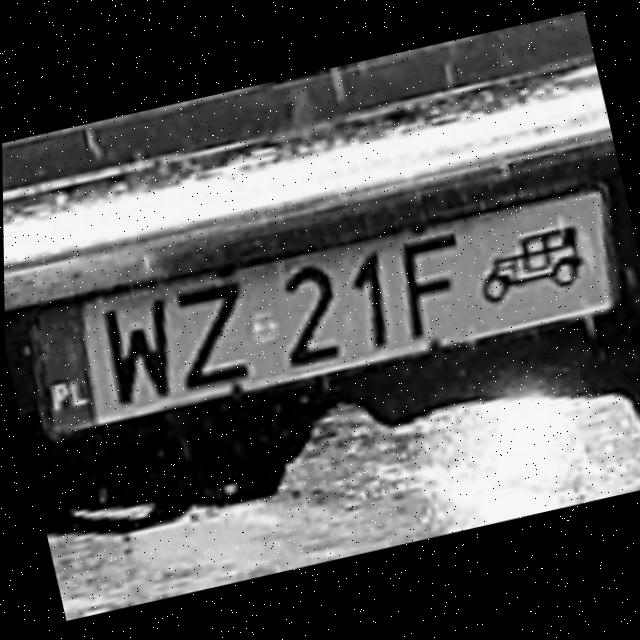license-plates: (36, 188, 620, 436)
